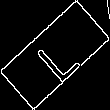L_NW: (27, 26, 83, 84)
